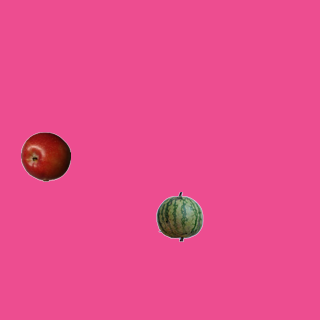Apple Braeburn: (20, 131, 70, 181)
Watermelon: (154, 191, 204, 241)
